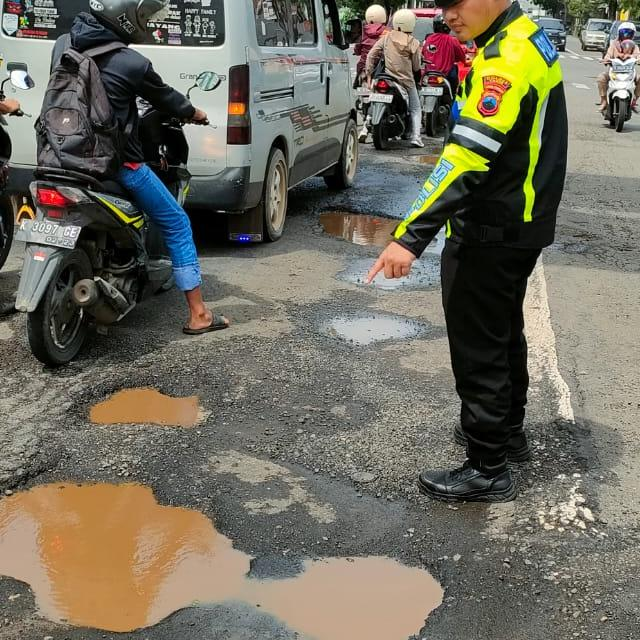lubang_kecil: (0, 442, 452, 640), (60, 354, 240, 438), (308, 290, 432, 376), (304, 200, 402, 256)
